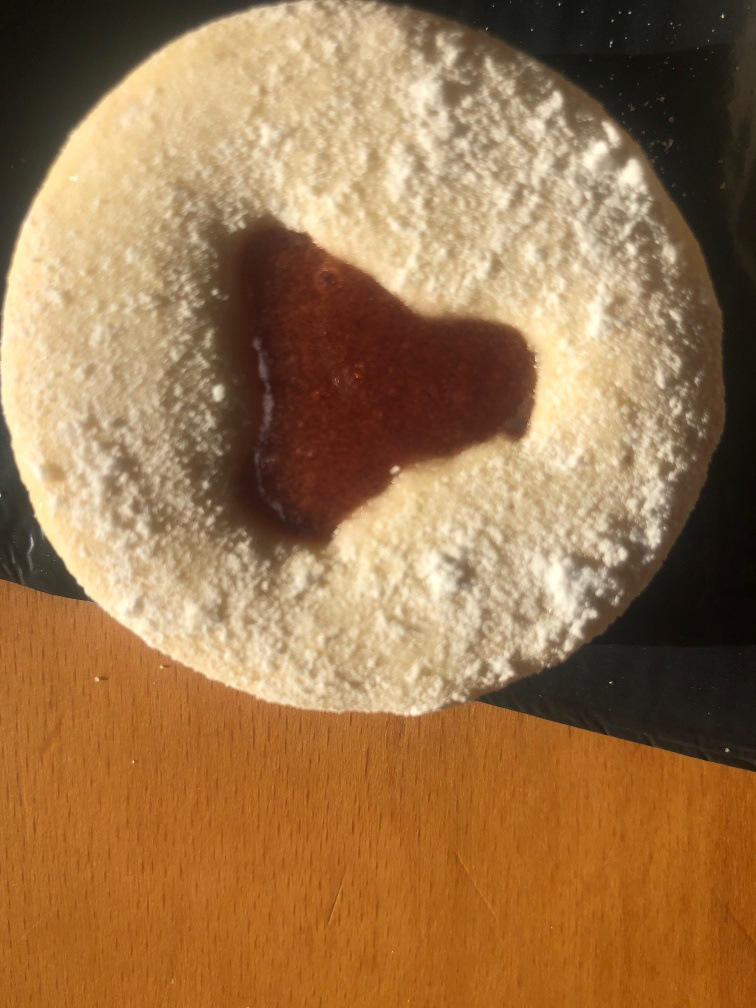christmas shortbread with jam: (4, 4, 727, 711)
